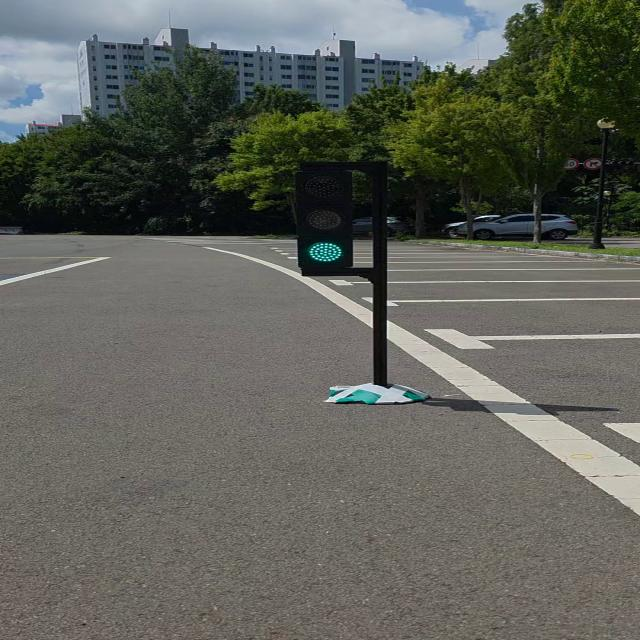green: (292, 164, 352, 278)
